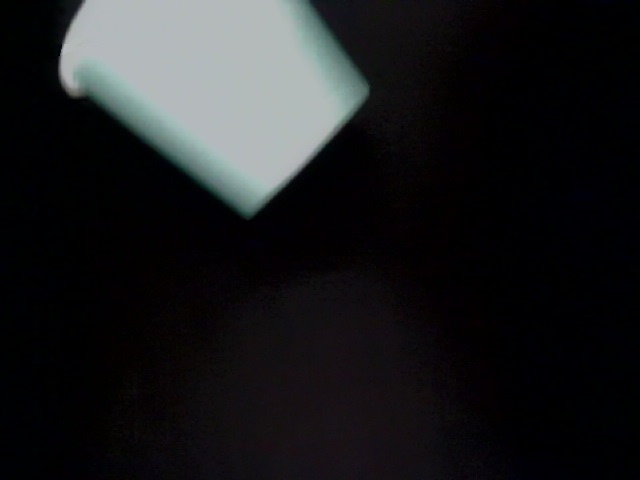CYLJ: (153, 3, 267, 116)
